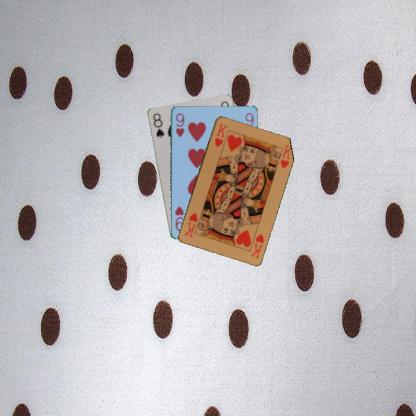8s: (150, 110, 165, 139)
9h: (174, 110, 186, 138)
Kh: (248, 230, 265, 259), (211, 121, 229, 148)
